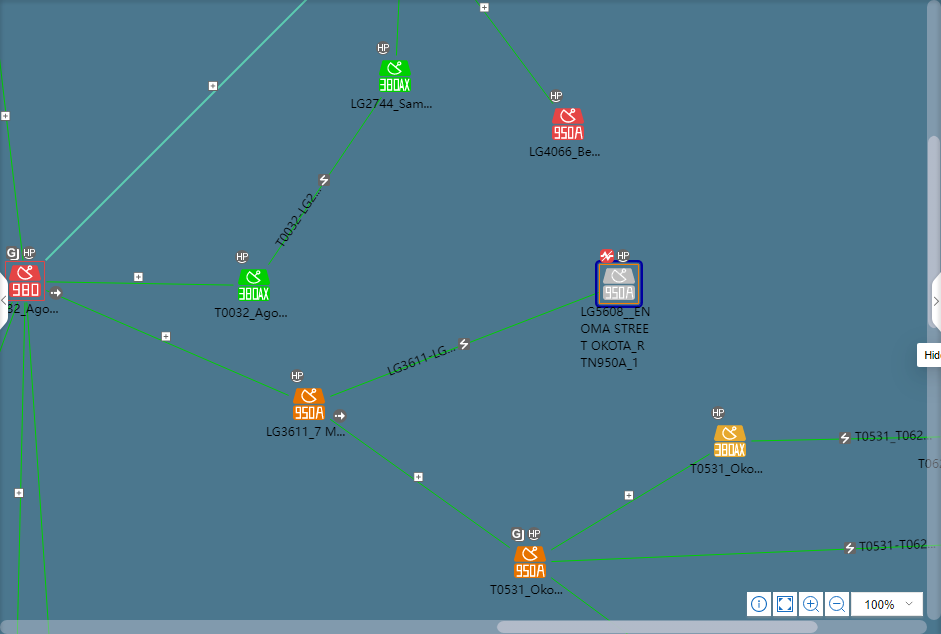Link_Blue: (44, 2, 300, 257)
Link_Green: (326, 291, 593, 401), (332, 414, 510, 549), (68, 296, 288, 401), (268, 96, 381, 261), (550, 449, 713, 551), (473, 0, 560, 104), (26, 324, 54, 634), (556, 543, 901, 565), (15, 307, 31, 634), (3, 108, 25, 258), (550, 573, 613, 624), (750, 432, 940, 448), (94, 279, 234, 289), (391, 2, 400, 60), (3, 302, 18, 335)
RTN_Gray: (597, 267, 637, 307)
RTN_Green: (379, 61, 413, 95), (238, 267, 272, 299)
RTN_Orange: (515, 549, 548, 583), (291, 391, 323, 424)
RTN_Red: (9, 261, 43, 301), (550, 108, 582, 142)
RTN_Yellow: (715, 426, 748, 460)
